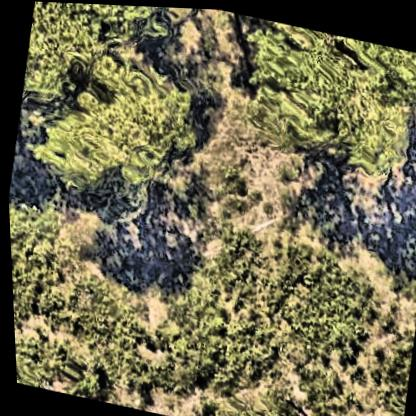tree-top: (26, 43, 209, 220), (240, 37, 416, 169), (19, 1, 172, 128)
